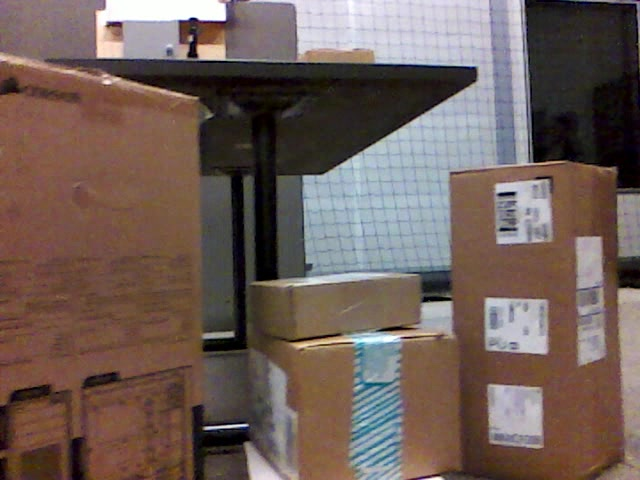box: (1, 55, 206, 480), (452, 162, 627, 480), (248, 325, 461, 480), (251, 273, 421, 338)
